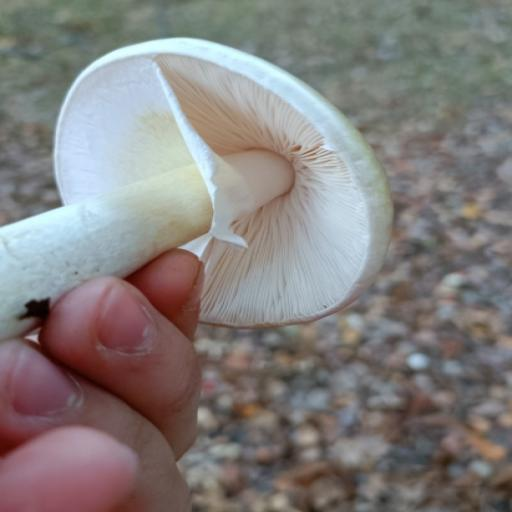mushroom: (0, 20, 402, 341)
